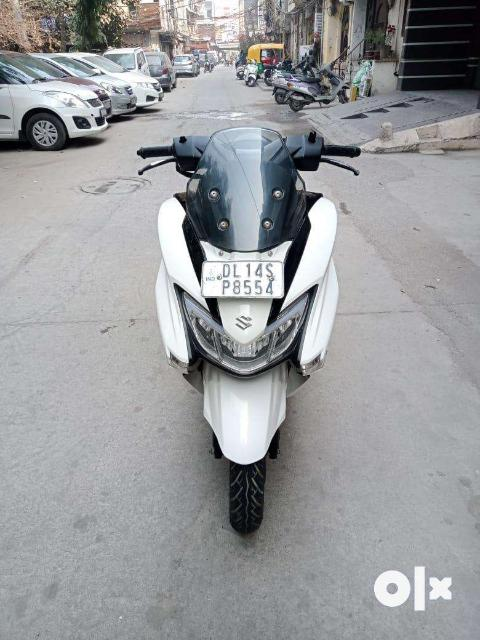Indian_Number_Plate: (203, 261, 283, 297)
